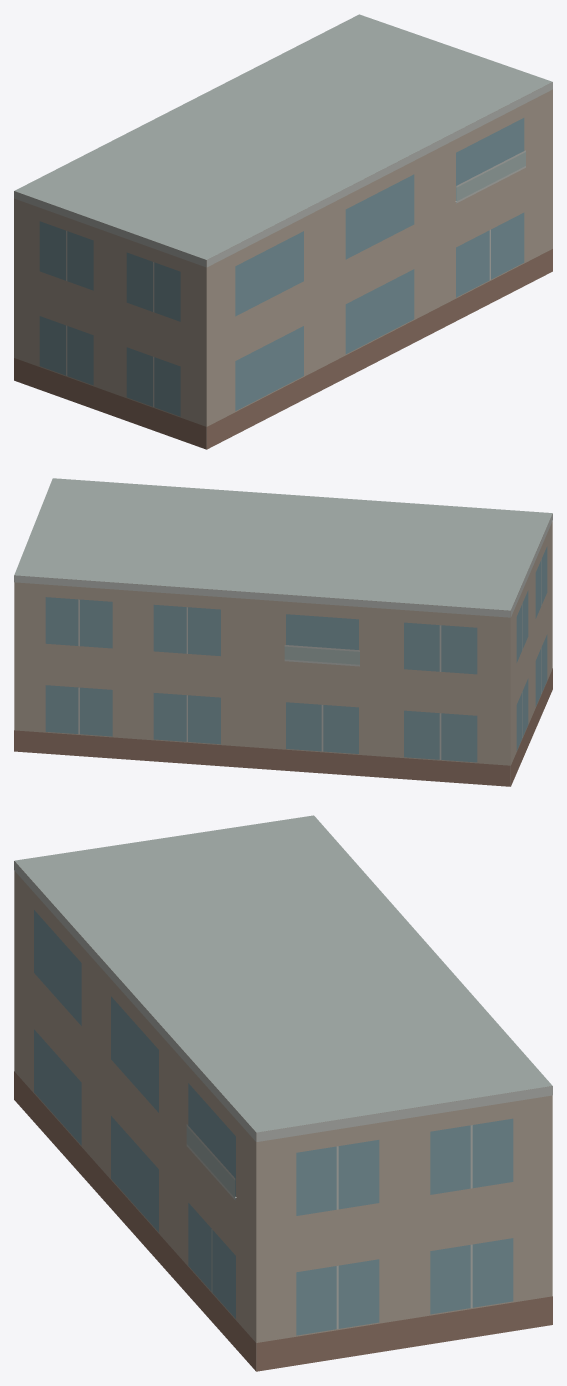
The model's file is survey-upis-32702945.glb.
The picture shows the model from 3 angles, top to bottom: view 1: azimuth 30°, elevation 25°; view 2: azimuth 150°, elevation 25°; view 3: azimuth 270°, elevation 25°; orthographic projection. The views are drawn at different scales.
Parts seen in each view (by area): view 1: survey-upis-32702945.tmp; view 2: survey-upis-32702945.tmp; view 3: survey-upis-32702945.tmp.
Boxes of the visible parts, bbox=[...] form: survey-upis-32702945.tmp: bbox=[14, 14, 552, 449]; survey-upis-32702945.tmp: bbox=[14, 478, 552, 786]; survey-upis-32702945.tmp: bbox=[14, 815, 552, 1371].
Size of the model in its own units: 17.38 by 6.1 by 12.47.
